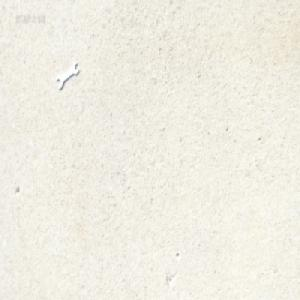Wrench: (55, 59, 78, 90)
